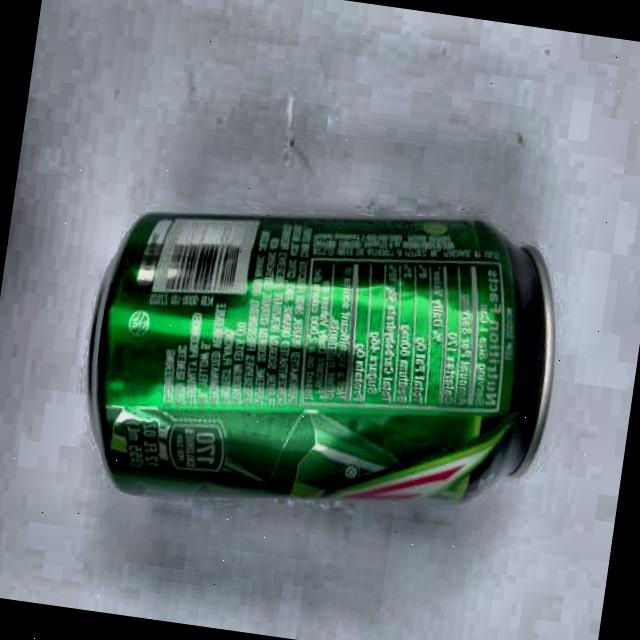metal: (78, 170, 569, 547)
